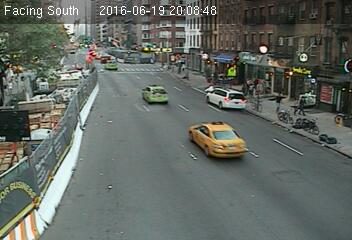neg: (4, 60, 28, 91), (189, 35, 209, 61), (4, 149, 17, 166), (83, 46, 95, 63), (99, 25, 111, 41), (168, 45, 179, 60)
pos: (269, 90, 289, 116), (286, 94, 304, 118), (294, 93, 311, 117)
